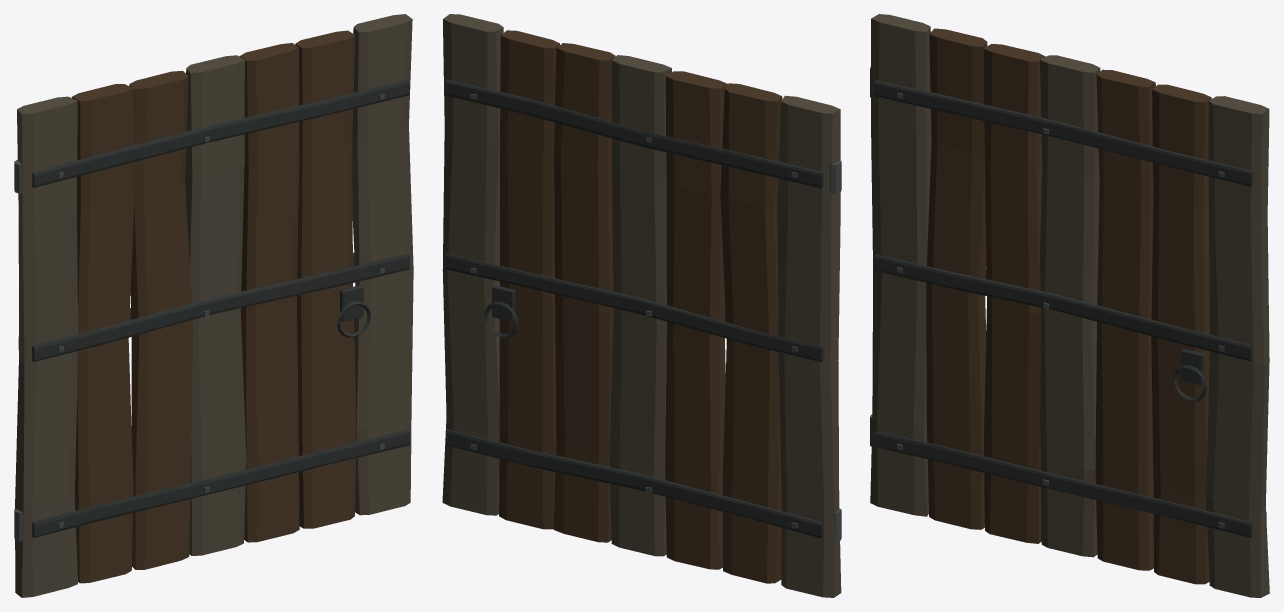
Rendered from door-leaf.glb.
3 renders of one model, left to right at view 1: azimuth 30°, elevation 25°; view 2: azimuth 150°, elevation 25°; view 3: azimuth 330°, elevation 25°, orthographic.
Parts seen in each view (by area): view 1: Wood, Iron; view 2: Wood, Iron; view 3: Wood, Iron.
Part boxes in pixels (x1,y1,x2,y2): Wood: (15, 14, 413, 597); Iron: (14, 79, 409, 541); Wood: (442, 14, 841, 597); Iron: (445, 79, 841, 541); Wood: (870, 14, 1269, 597); Iron: (870, 66, 1266, 537).
Bounding box in the file's own units: 1.74 × 2.03 × 0.168.
